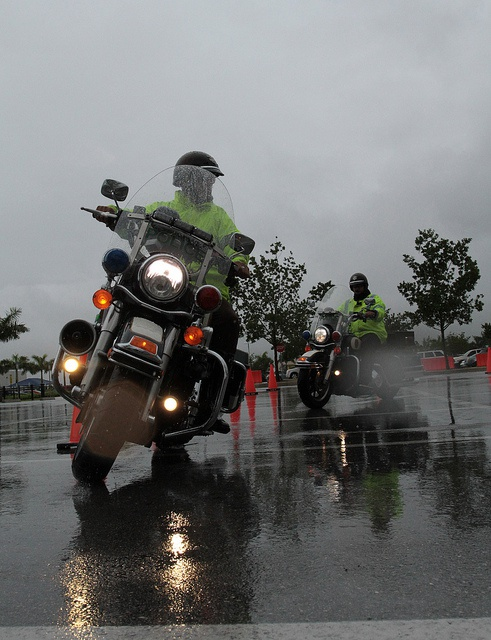non-vehicle: (47, 178, 256, 484), (292, 283, 421, 410)
